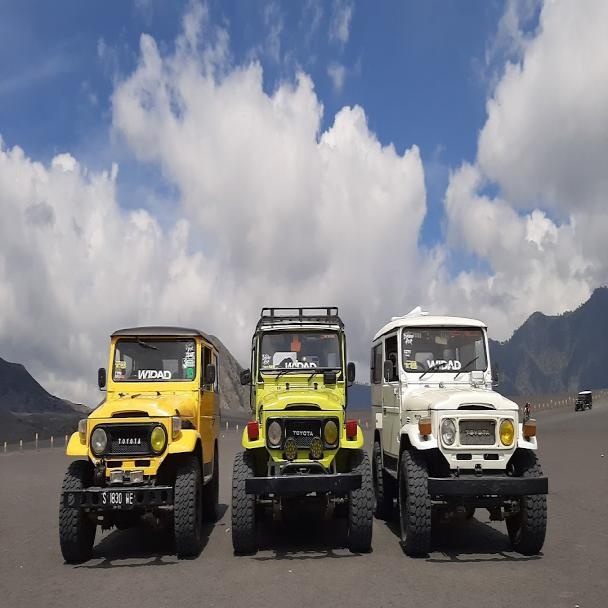Mobil: (369, 308, 547, 551), (59, 318, 222, 558), (232, 297, 372, 567)
